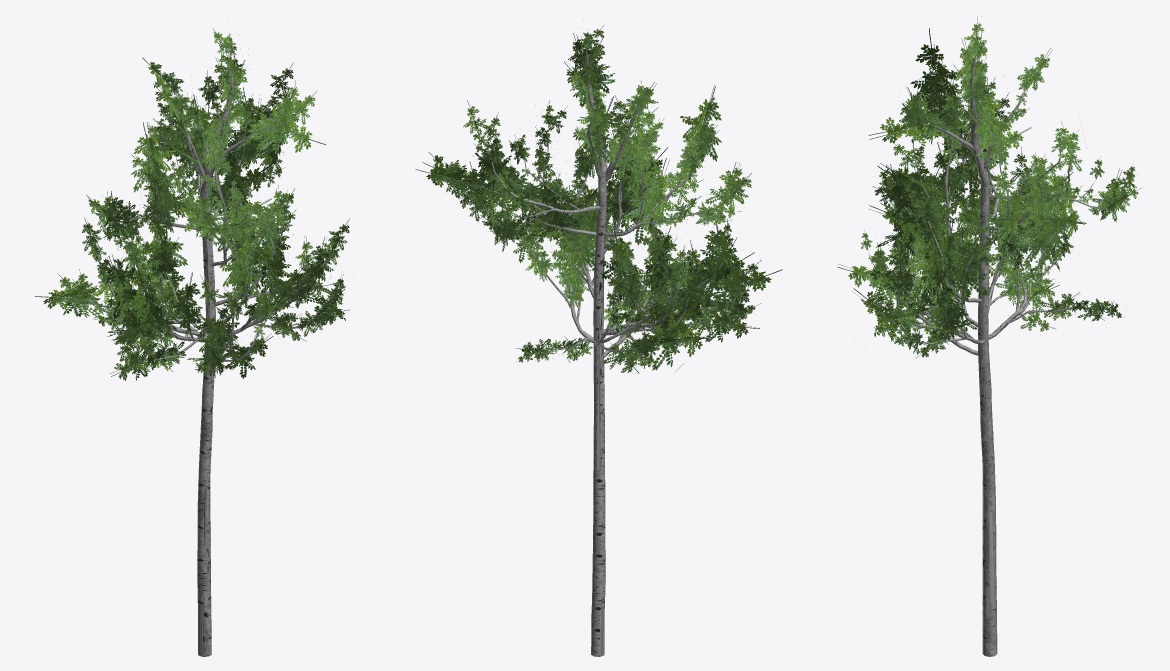
The model's file is ez-aspen-medium.glb.
3 renders of one model, left to right at view 1: azimuth 30°, elevation 25°; view 2: azimuth 150°, elevation 25°; view 3: azimuth 270°, elevation 25°, orthographic. The views are drawn at different scales.
Visible parts, largest first — view 1: near, mid; view 2: near, mid; view 3: near, mid.
Boxes of the visible parts, left/top/right/bottom form: near: left=57, top=29, right=349, bottom=655; mid: left=35, top=49, right=345, bottom=656; near: left=428, top=25, right=761, bottom=656; mid: left=415, top=33, right=782, bottom=656; near: left=860, top=16, right=1141, bottom=656; mid: left=837, top=28, right=1135, bottom=655.
Bounding box in the file's own units: 6.64 × 13 × 5.95.
Materials: 1 (1 with a texture image).
